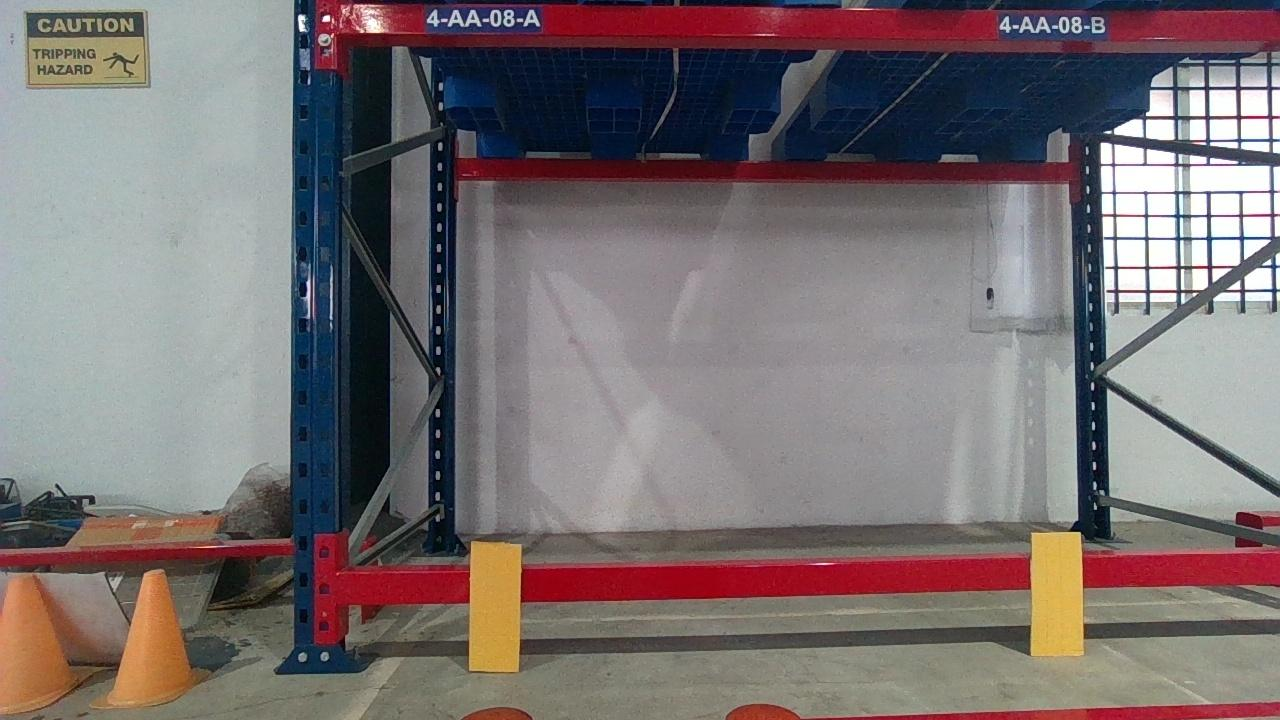h_rack: (340, 1, 1280, 42), (331, 565, 1280, 595)
orange_strip: (471, 540, 522, 675), (1029, 529, 1084, 653)
